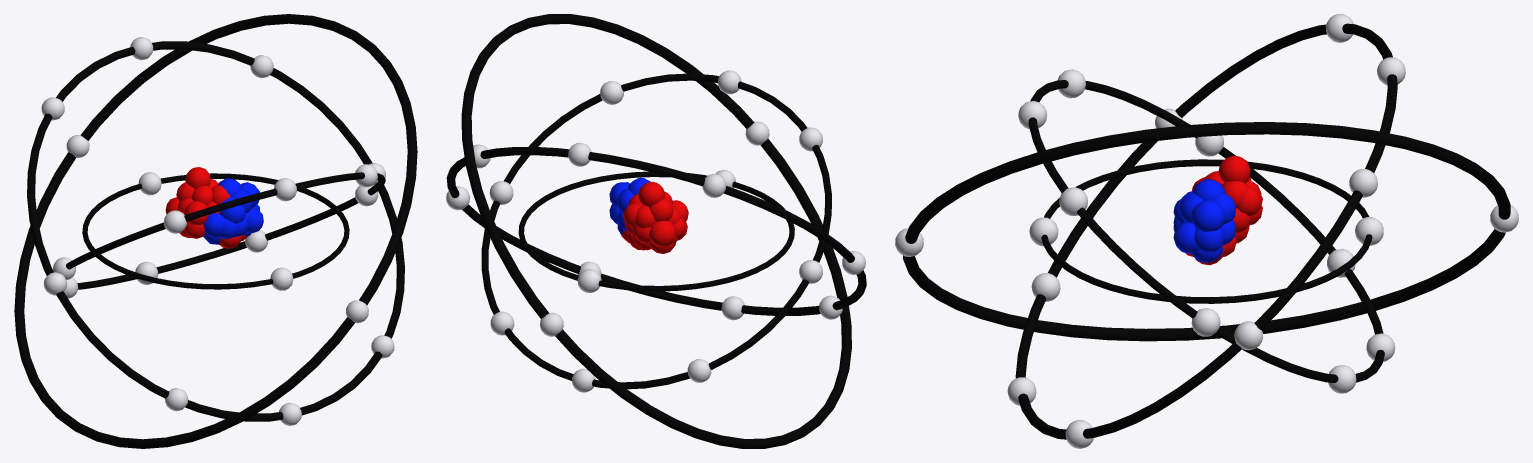
Rendered from 26 Hierro.fbx.
3 views of the same model, side by side, from view 1: azimuth 30°, elevation 25°; view 2: azimuth 150°, elevation 25°; view 3: azimuth 270°, elevation 25° (orthographic). The views are drawn at different scales.
Visible parts, largest first — view 1: Orbita.004, Orbita.003, Orbita.002, Orbita.001, Neutron.001, Electron.009, Sphere.026, Electron, Electron.015, Electron.013, Electron.019, Electron.001 (+7 smaller); view 2: Orbita.004, Orbita.003, Orbita.002, Orbita.001, Neutron.005, Sphere.026, Neutron.006, Electron.010, Electron.006, Electron.014, Electron.001, Electron.008 (+11 smaller); view 3: Orbita.004, Orbita.003, Orbita.002, Orbita.001, Neutron.006, Neutron.003, Sphere.026, Electron.016, Electron.008, Electron.010, Electron.015, Electron.012 (+2 smaller).
Part boxes in pixels (x1,y1,x2,y2): Orbita.004: (14,14,417,448); Orbita.003: (27,41,404,421); Orbita.002: (66,172,385,289); Orbita.001: (82,173,349,289); Neutron.001: (203,213,224,244); Electron.009: (164,210,186,233); Sphere.026: (185,167,210,188); Electron: (270,267,293,290); Electron.015: (250,55,273,78); Electron.013: (43,272,66,295); Electron.019: (345,300,368,323); Electron.001: (138,172,161,195); Orbita.004: (461,14,851,448); Orbita.003: (446,147,866,315); Orbita.002: (481,73,831,389); Orbita.001: (518,171,794,291); Neutron.005: (649,217,686,253); Sphere.026: (638,181,664,206); Neutron.006: (609,182,634,213); Electron.010: (600,81,623,104); Electron.006: (687,359,711,382); Electron.014: (702,174,726,197); Electron.001: (577,269,601,292); Electron.008: (489,181,513,204); Orbita.004: (903,122,1510,341); Orbita.003: (1015,23,1397,439); Orbita.002: (1028,80,1384,382); Orbita.001: (1041,159,1372,303); Neutron.006: (1180,193,1235,231); Neutron.003: (1180,220,1235,263); Sphere.026: (1218,156,1250,183); Electron.016: (1234,321,1262,350); Electron.008: (1191,308,1220,336); Electron.010: (1059,187,1087,215); Electron.015: (1349,169,1377,197); Electron.012: (1031,273,1060,301).
Size of the model in its own units: 14.53 by 12.42 by 10.14.
